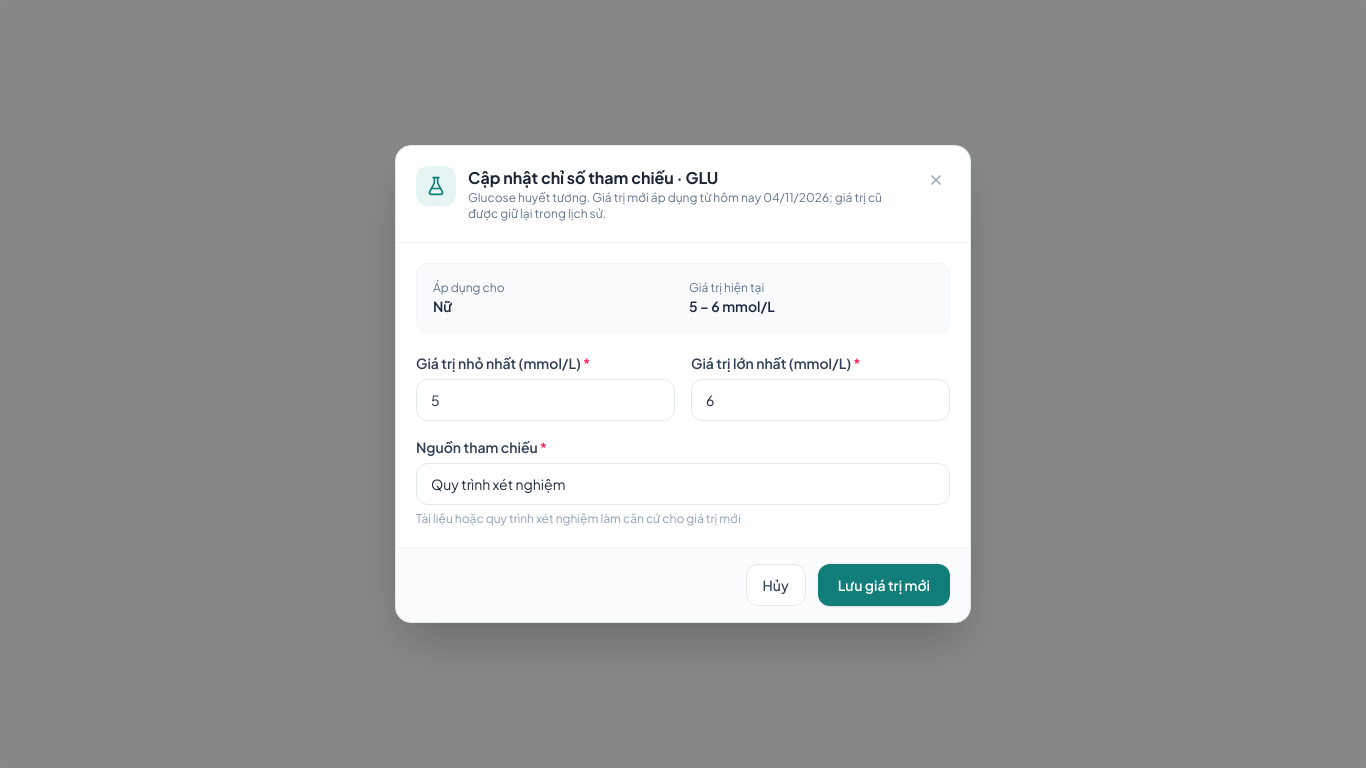
Test: LabRangeRevisionModal › does not save a range whose minimum is not below its maximum
Replace the text in the field labelled "Giá trị nhỏ nhất (mmol/L)*" with "9" at (546, 400), box 416,379 -> 675,421
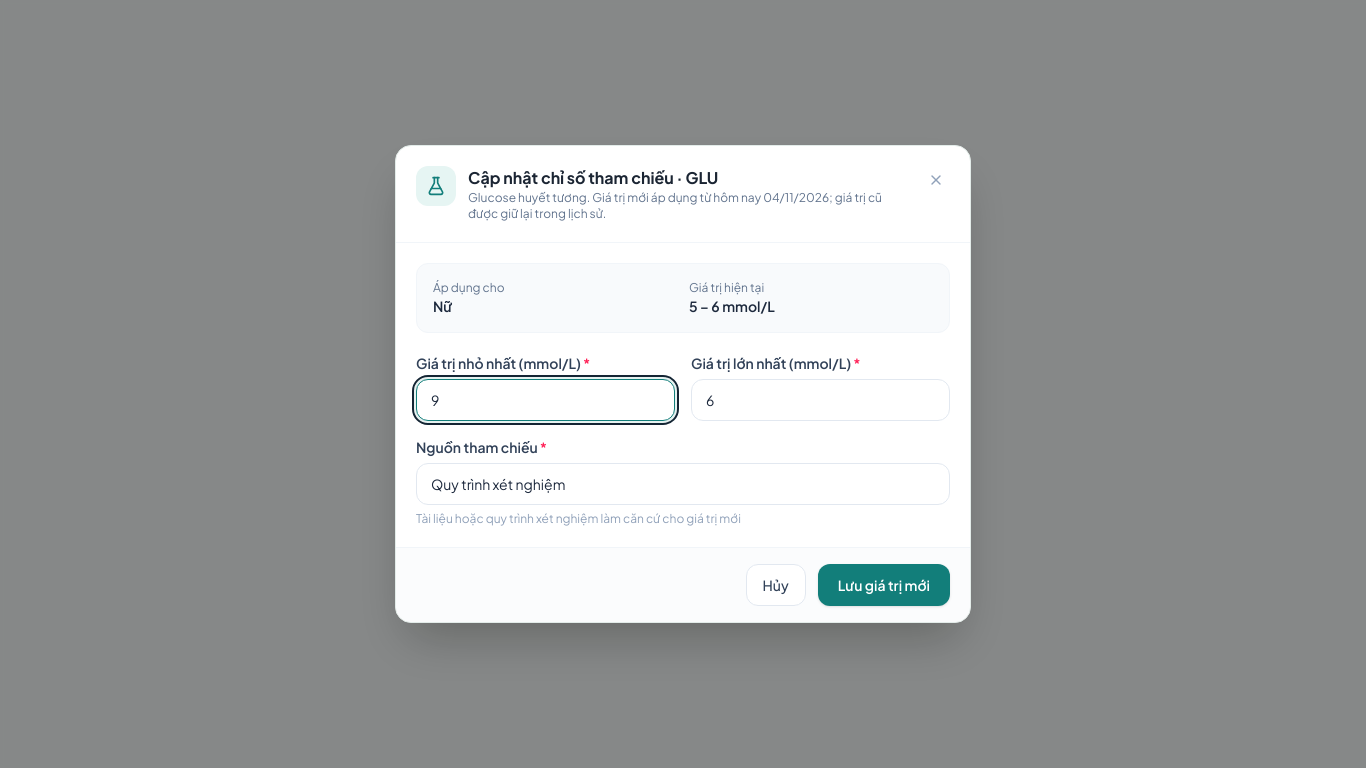
Click the button "Lưu giá trị mới" at (884, 585), box 818,564 -> 950,606
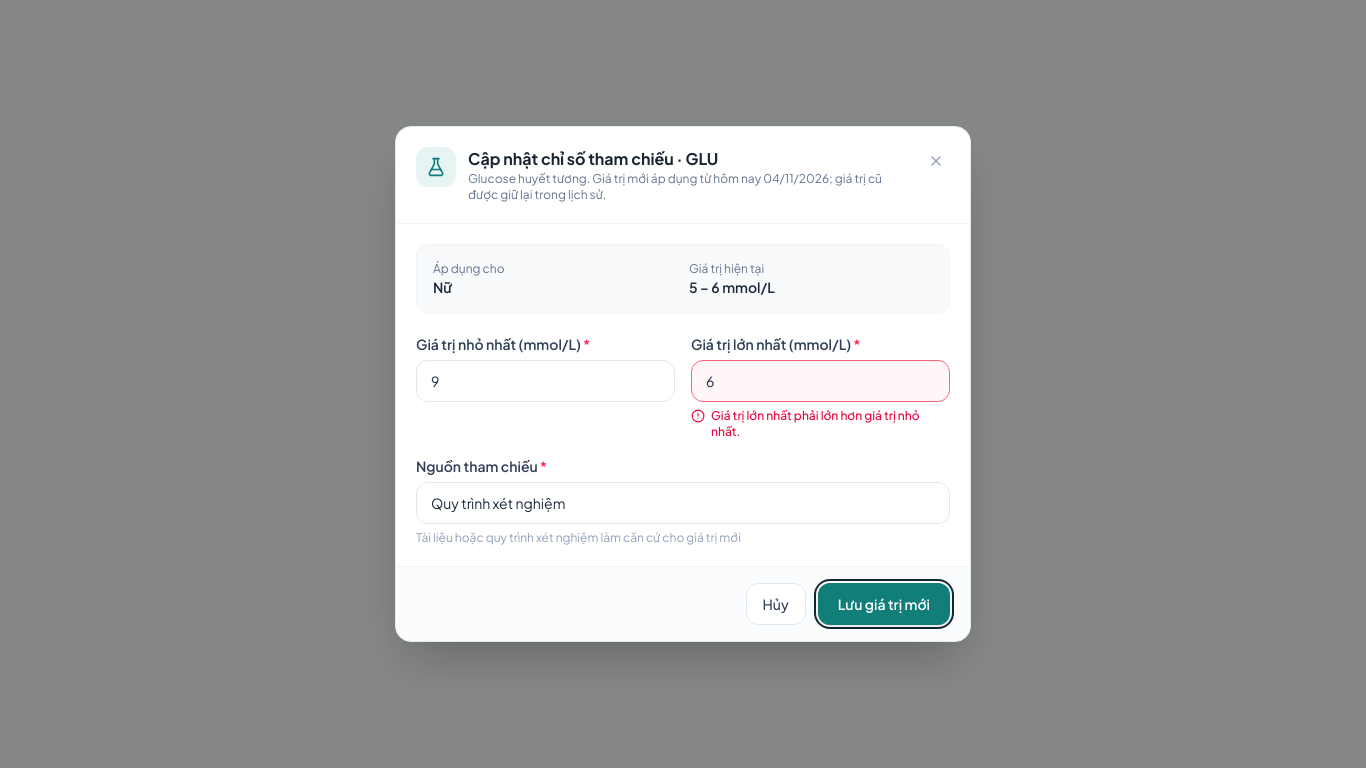
Check: the text "Giá trị lớn nhất phải lớn hơn giá trị nhỏ nhất." is shown, box 711,408 -> 950,440
